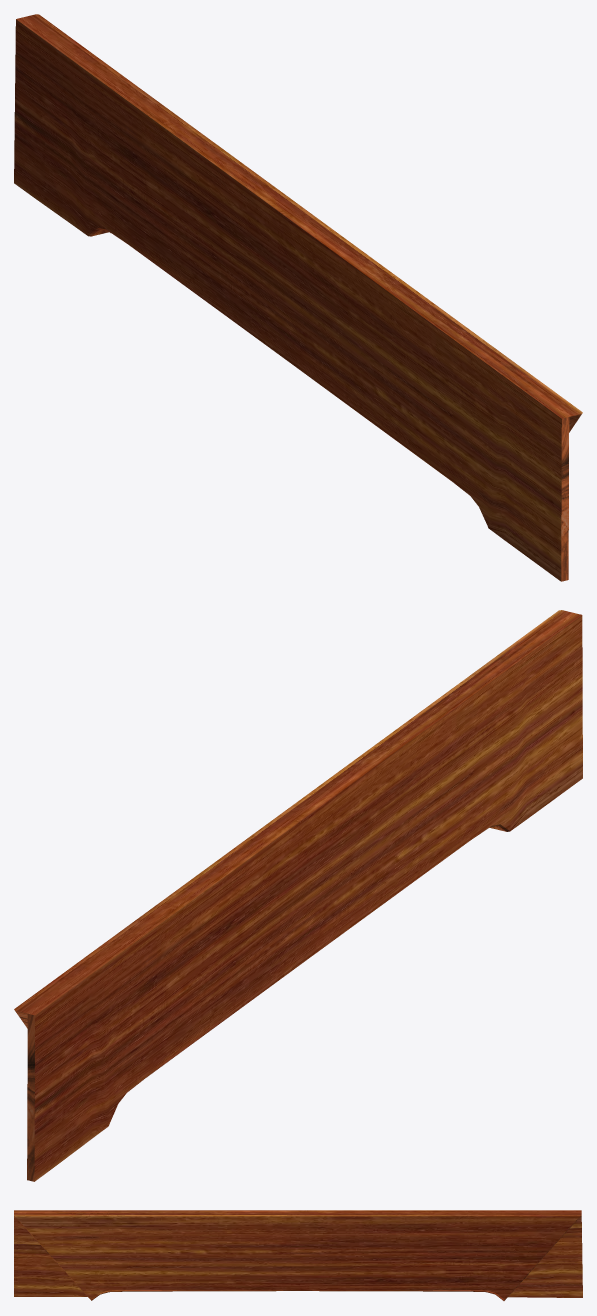
The model's file is quanyi_ J_youjuankou_shang.FBX.
3 views of the same model, one above another, from view 1: azimuth 30°, elevation 25°; view 2: azimuth 150°, elevation 25°; view 3: azimuth 270°, elevation 25° (orthographic). The views are drawn at different scales.
Visible parts, largest first — view 1: quanyi_ J_youjuankou_shang; view 2: quanyi_ J_youjuankou_shang; view 3: quanyi_ J_youjuankou_shang.
Part boxes in pixels (box(x1,y1,x2,y2)): quanyi_ J_youjuankou_shang: box(14, 14, 582, 581); quanyi_ J_youjuankou_shang: box(14, 610, 582, 1181); quanyi_ J_youjuankou_shang: box(14, 1210, 582, 1300).
Bounding box in the file's own units: 0.9678 × 6.51 × 39.16.
2 materials, 2 textured.
